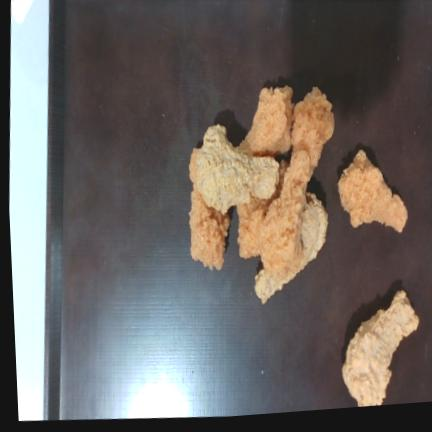chicken: (342, 291, 419, 407), (195, 124, 279, 213), (259, 151, 312, 278), (338, 150, 407, 233), (189, 149, 230, 270), (239, 86, 293, 156), (292, 87, 334, 168), (297, 192, 328, 272)
